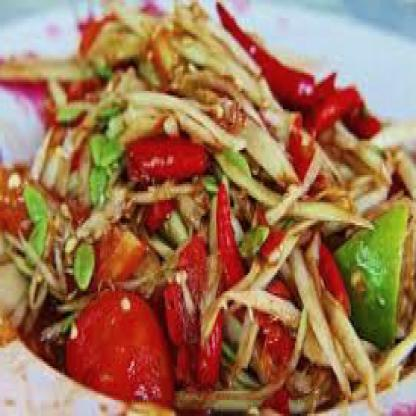Papaya Salad: (1, 11, 415, 415)
